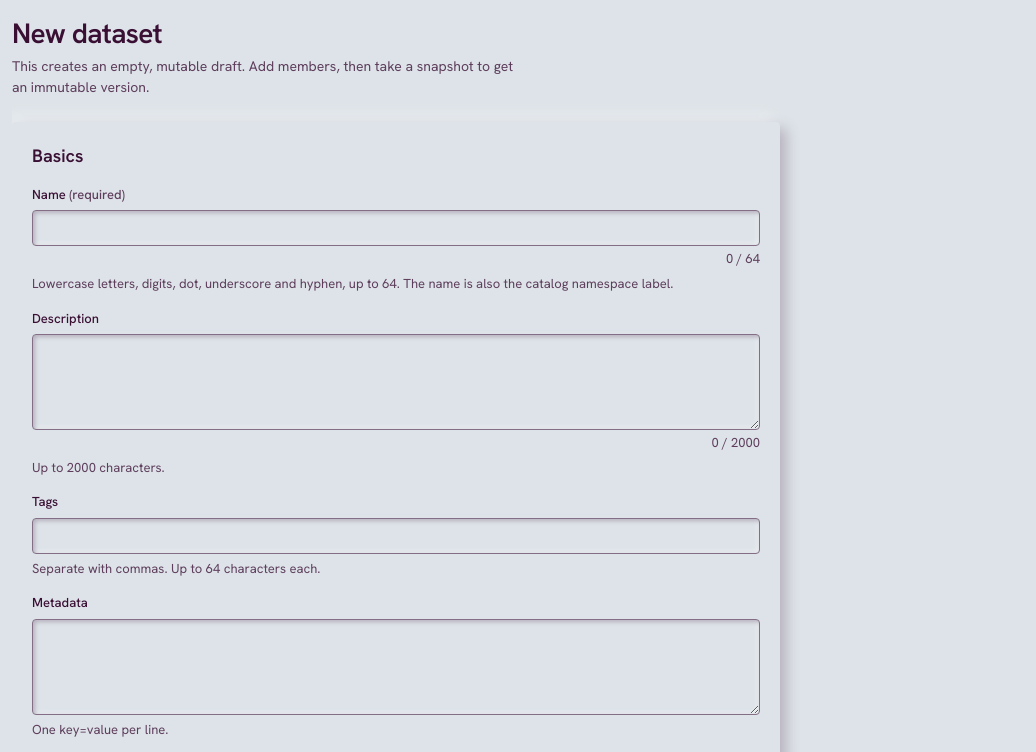
Test: CreateDatasetForm › says nothing new was made on 200
This screenshot has width=1036, height=752.
Type "pets" into the field labelled "Name (required)" at (396, 228), box [32, 210, 760, 246]
(page scrolled)
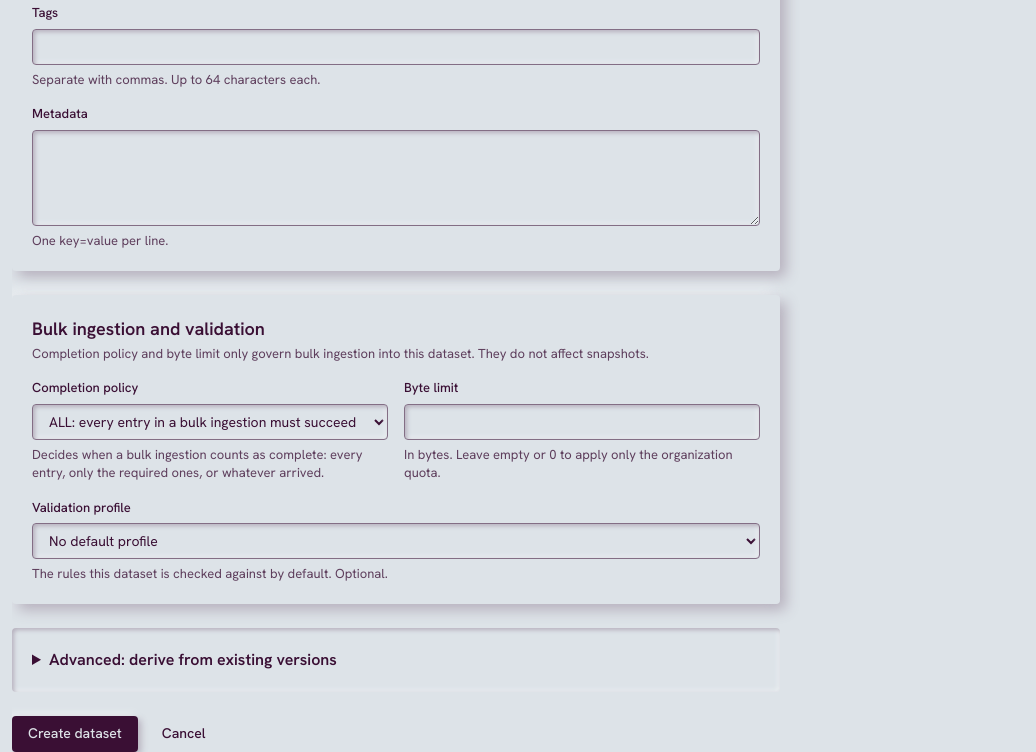
Click the button "Create dataset" at (75, 734), box [12, 716, 138, 751]
(page scrolled)
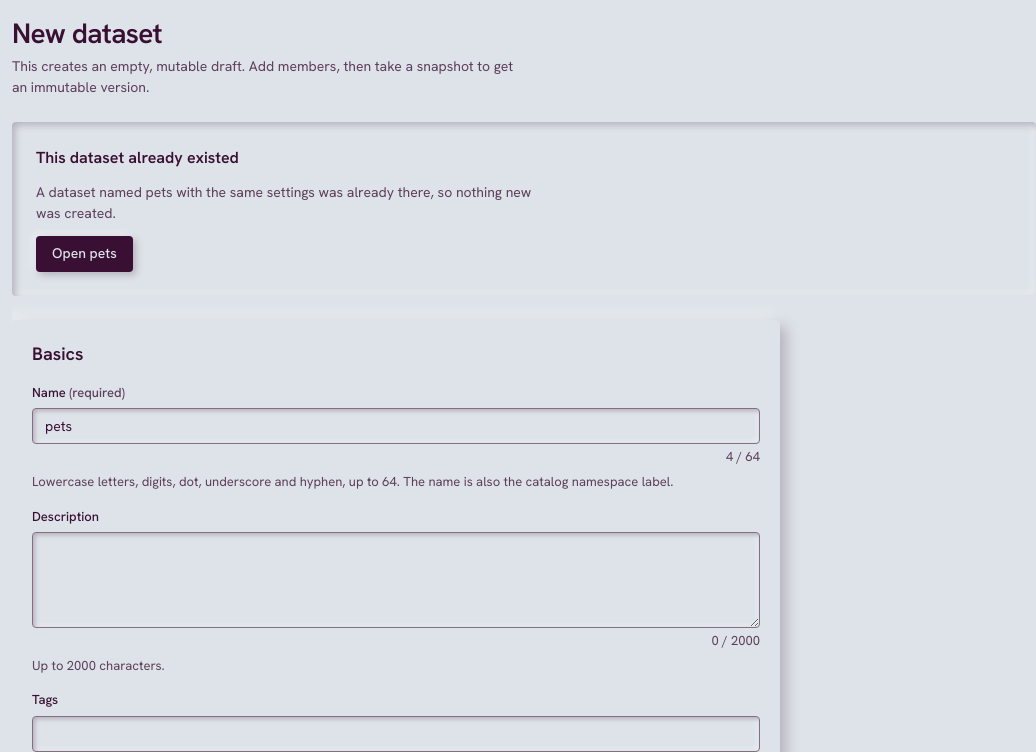
Now the heading "This dataset already existed" is shown, box [36, 146, 239, 170]
